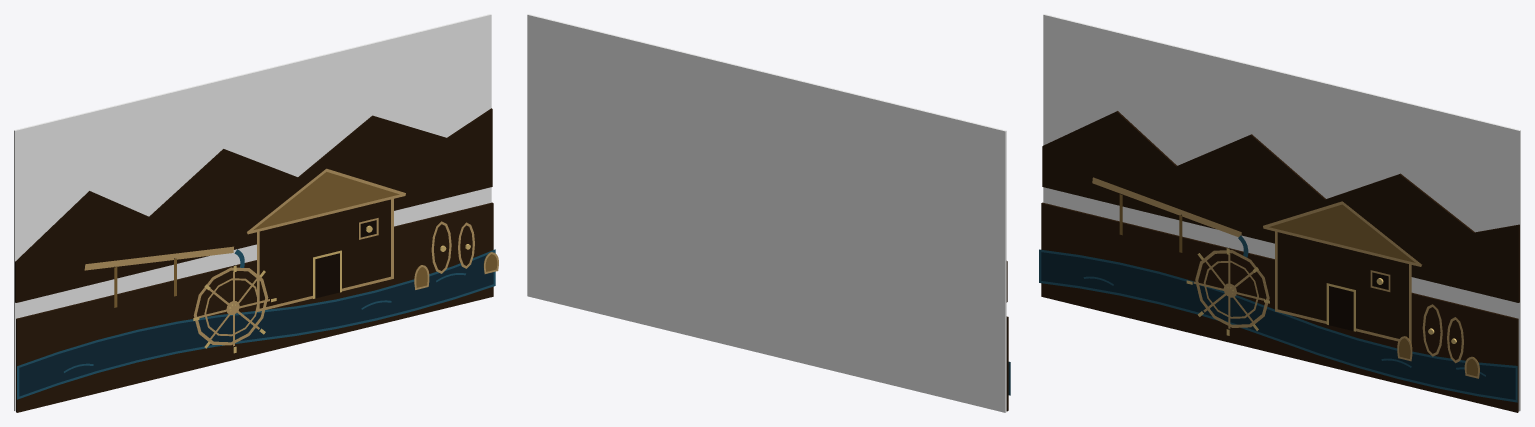
The model's file is loc-vodyanaya-melnitsa.glb.
3 renders of one model, left to right at view 1: azimuth 30°, elevation 25°; view 2: azimuth 150°, elevation 25°; view 3: azimuth 330°, elevation 25°, orthographic.
Visible parts, largest first — view 1: loc-vodyanaya-melnitsa; view 2: loc-vodyanaya-melnitsa; view 3: loc-vodyanaya-melnitsa.
Boxes of the visible parts, box(x1,y1,x2,y2) form: loc-vodyanaya-melnitsa: box(14, 14, 498, 412); loc-vodyanaya-melnitsa: box(527, 14, 1010, 412); loc-vodyanaya-melnitsa: box(1039, 14, 1520, 412).
Size of the model in its own units: 5.36 by 3 by 0.481.
